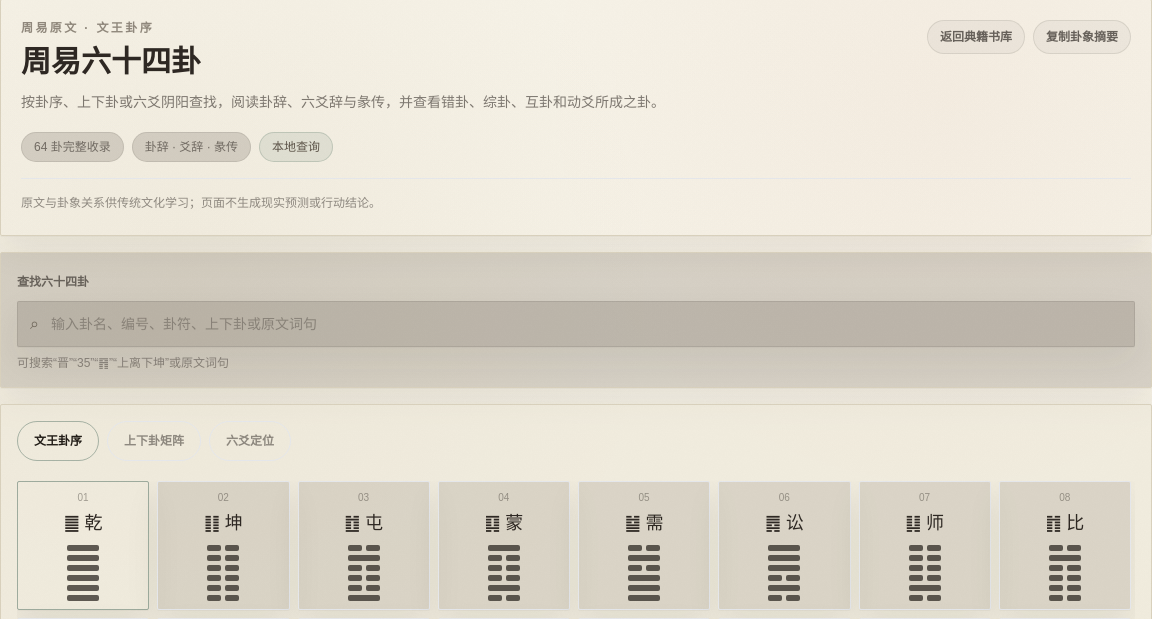
IchingLibrary › 可手动切换六爻阴阳并定位卦象
This screenshot has width=1152, height=619.
What coordinates should you click on to do the following:
click the tab "六爻定位"
I would click on:
 (250, 441)
Its box is left=209, top=421, right=291, bottom=461.
(page scrolled)
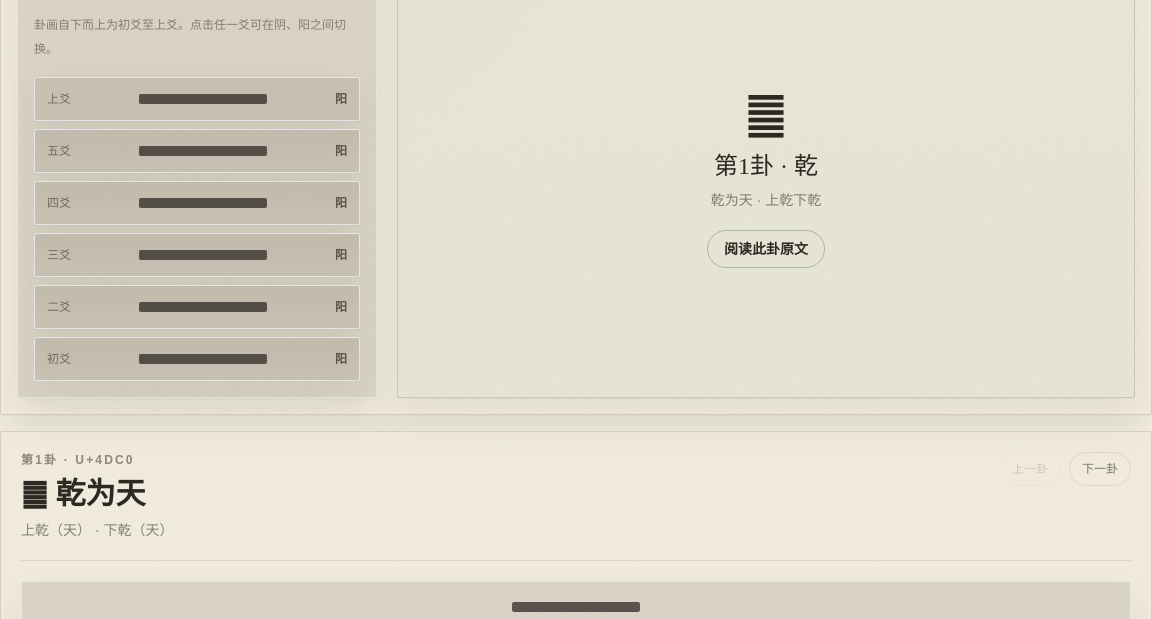
Expected: the heading "第1卦 · 乾" is shown, left=714, top=150, right=818, bottom=182
What coordinates should you click on to do the following:
click the button with aria-label "初爻，当前为阳爻，点击切换"
I would click on:
 (197, 359)
Its box is left=34, top=337, right=360, bottom=381.
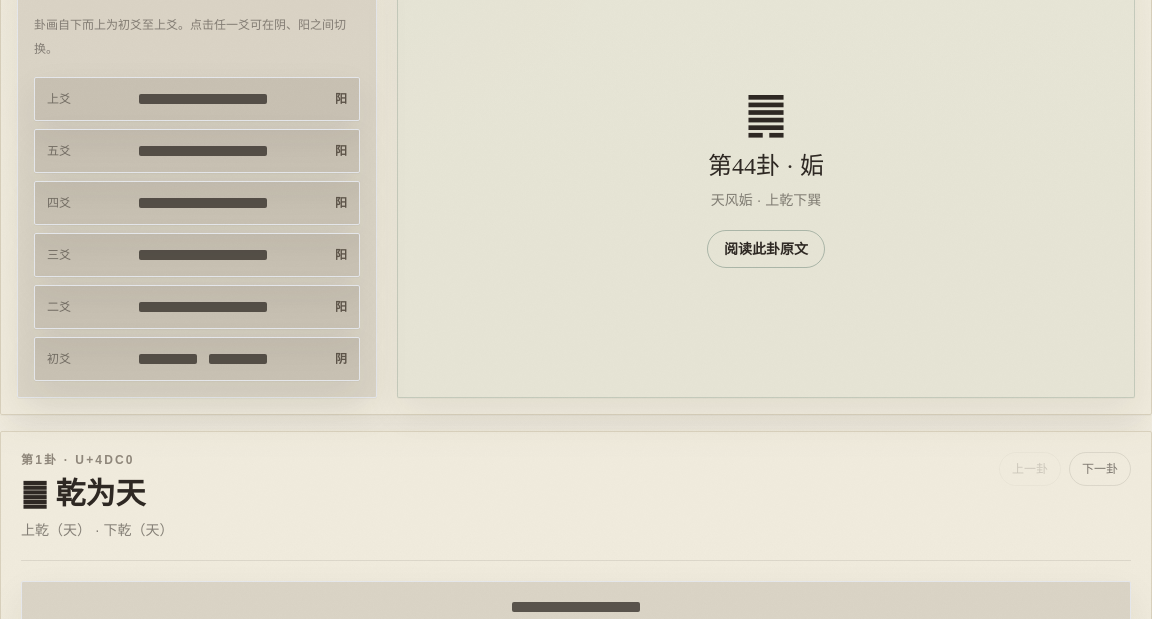
Expected: the heading "第44卦 · 姤" is shown, left=708, top=150, right=824, bottom=182
